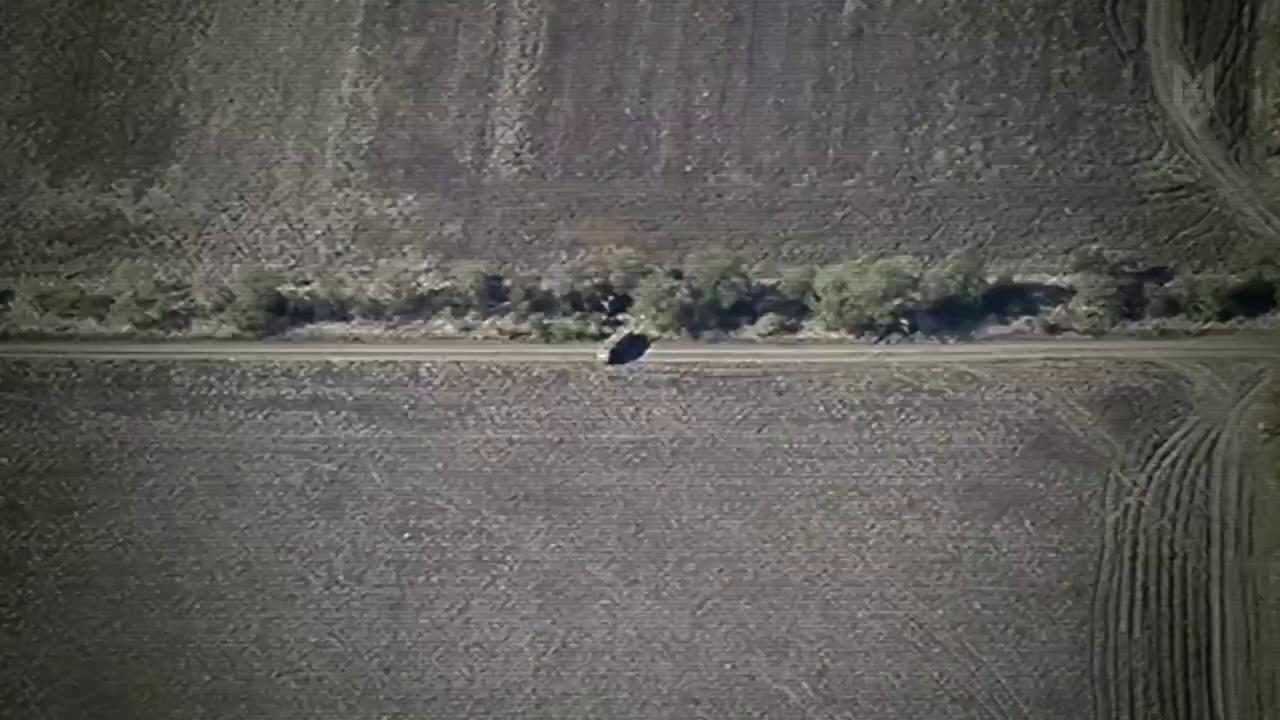tank: (596, 324, 646, 367), (594, 280, 632, 320)
